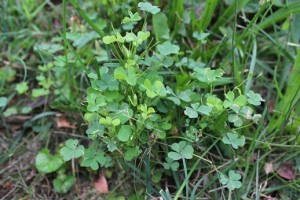oxalis: (66, 33, 221, 169)
